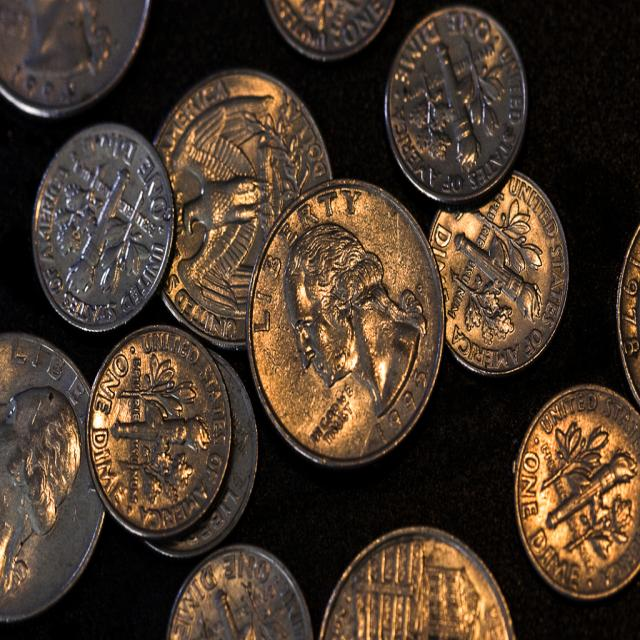Coin: (0, 0, 640, 639), (515, 383, 638, 613)
